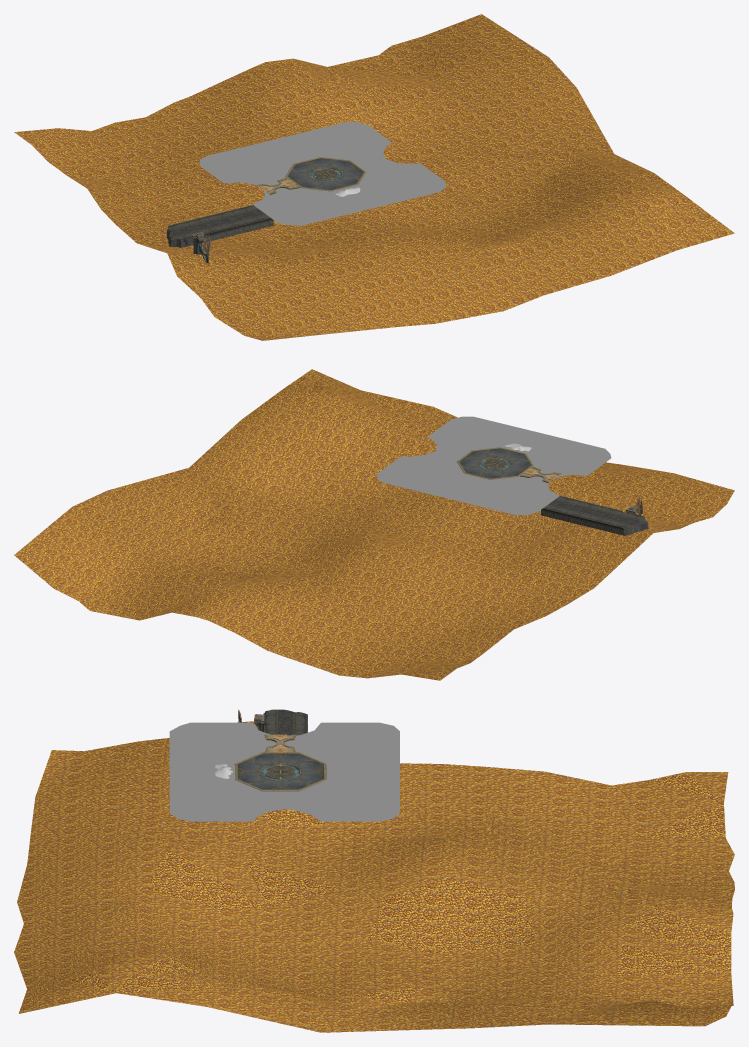
The picture shows the model from 3 angles, top to bottom: view 1: azimuth 30°, elevation 25°; view 2: azimuth 150°, elevation 25°; view 3: azimuth 270°, elevation 25°; orthographic projection. The views are drawn at different scales.
Visible parts, largest first — view 1: f_2236_floor_a, f_2236_floor_b, f_2236_road, f_2236_floor_c; view 2: f_2236_floor_a, f_2236_floor_b, f_2236_road, f_2236_floor_c; view 3: f_2236_floor_a, f_2236_floor_b, f_2236_floor_c, f_2236_road, f_2236_floor_line_a.
Boxes of the visible parts, x1,y1,x2,y2 form: f_2236_floor_a: [14, 14, 734, 340]; f_2236_floor_b: [199, 122, 445, 225]; f_2236_road: [166, 205, 273, 247]; f_2236_floor_c: [288, 158, 363, 190]; f_2236_floor_a: [14, 369, 734, 680]; f_2236_floor_b: [377, 416, 611, 515]; f_2236_road: [541, 495, 648, 535]; f_2236_floor_c: [459, 448, 530, 478]; f_2236_floor_a: [14, 721, 734, 1032]; f_2236_floor_b: [169, 722, 399, 821]; f_2236_floor_c: [237, 753, 323, 789]; f_2236_road: [263, 709, 307, 735]; f_2236_floor_line_a: [234, 752, 326, 791].
Size of the model in its own units: 8282 by 1284 by 8452.
